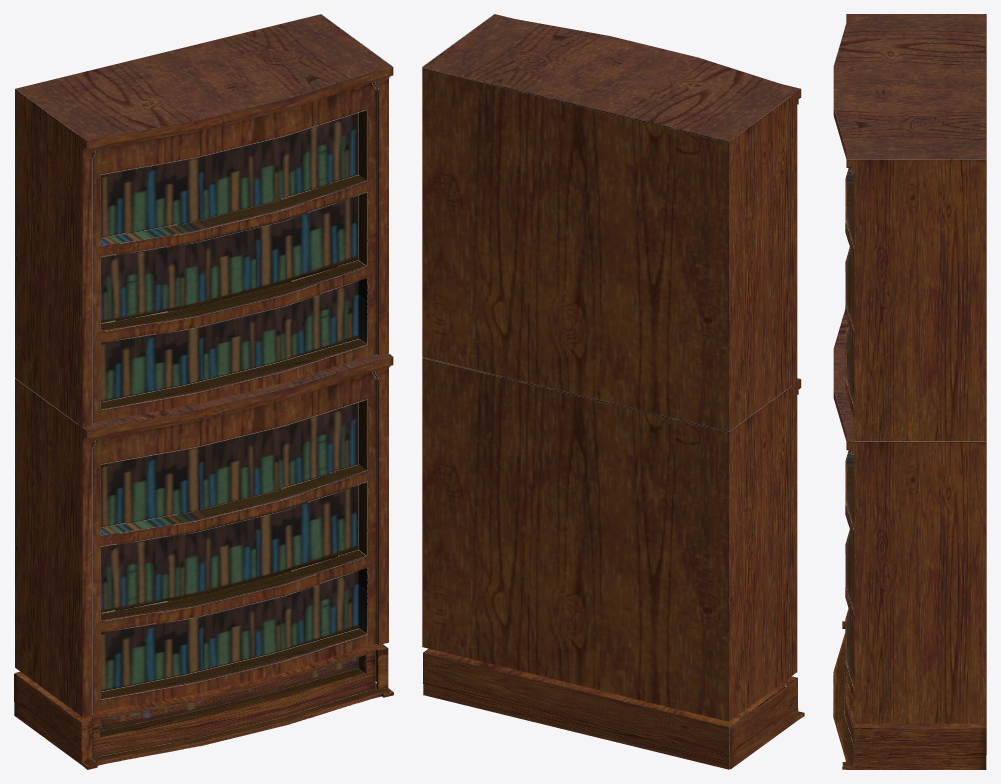
Rendered from tanabig.fbx.
3 renders of one model, left to right at view 1: azimuth 30°, elevation 25°; view 2: azimuth 150°, elevation 25°; view 3: azimuth 270°, elevation 25°, orthographic. The views are drawn at different scales.
Visible parts, largest first — view 1: 立方体.039; view 2: 立方体.039; view 3: 立方体.039.
Part boxes in pixels (x1,y1,x2,y2): 立方体.039: (14, 14, 393, 769); 立方体.039: (422, 14, 804, 769); 立方体.039: (833, 14, 986, 769).
Size of the model in its own units: 215 by 419 by 95.26.
Materials: 1 (1 with a texture image).
